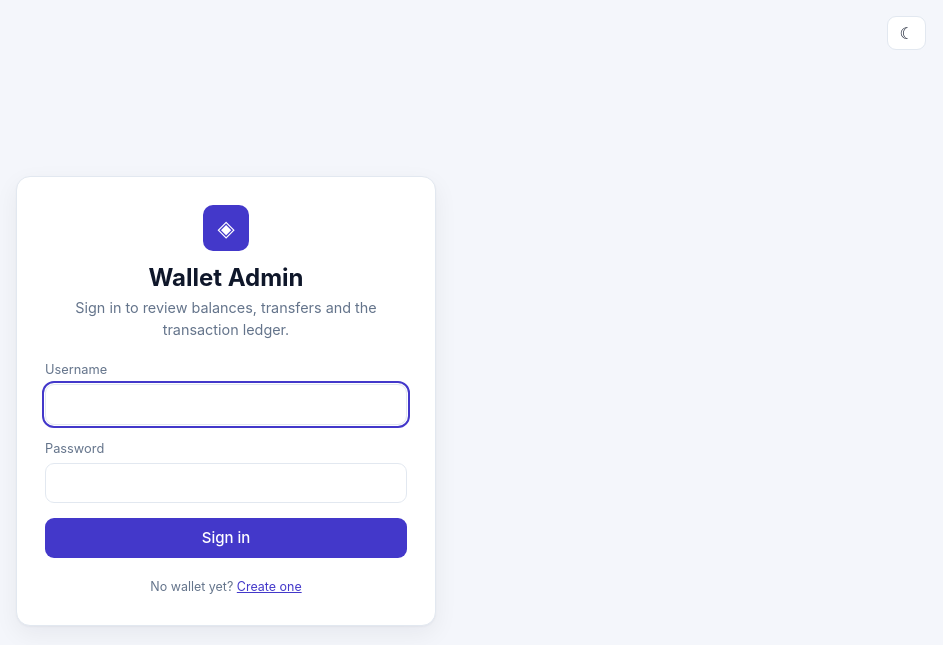
register › reaches /register from the sign-in screen
The image size is (943, 645).
Click the link "Create one": (269, 587) [237, 579, 302, 594]
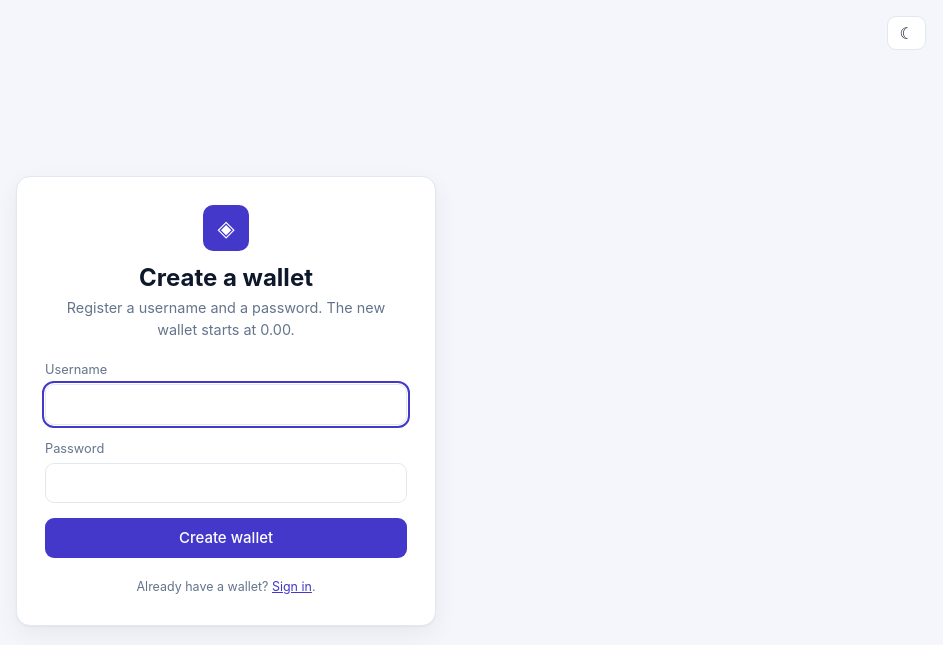
Now the heading "Create a wallet" is shown, box [139, 263, 313, 292]
